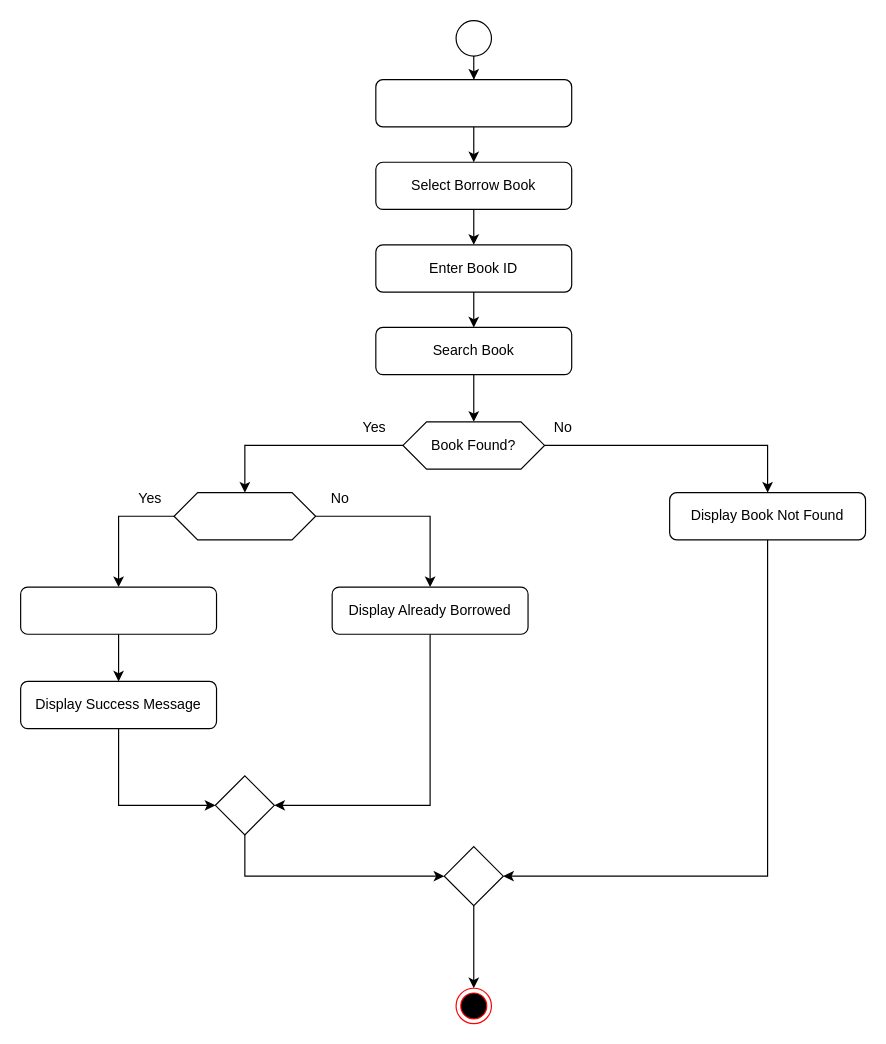
Some shapes in this 886 by 1044 pixel diagram are drawn without their labels. The box of each missing label's shape, as (x1, y1, x2, y2) in pixels:
Available?: (173, 491, 316, 540)
Borrow Book: (19, 586, 217, 634)
Display Main Menu: (375, 78, 572, 127)
